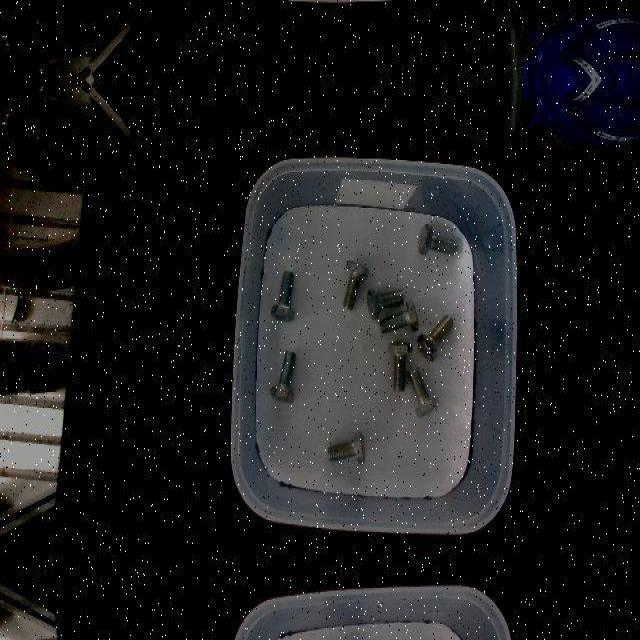screw: (417, 314, 454, 360), (408, 365, 439, 417), (270, 348, 296, 402), (343, 260, 369, 312), (327, 431, 366, 465), (380, 299, 419, 333), (417, 223, 457, 255), (271, 270, 295, 322), (389, 340, 413, 392), (366, 287, 404, 317)
